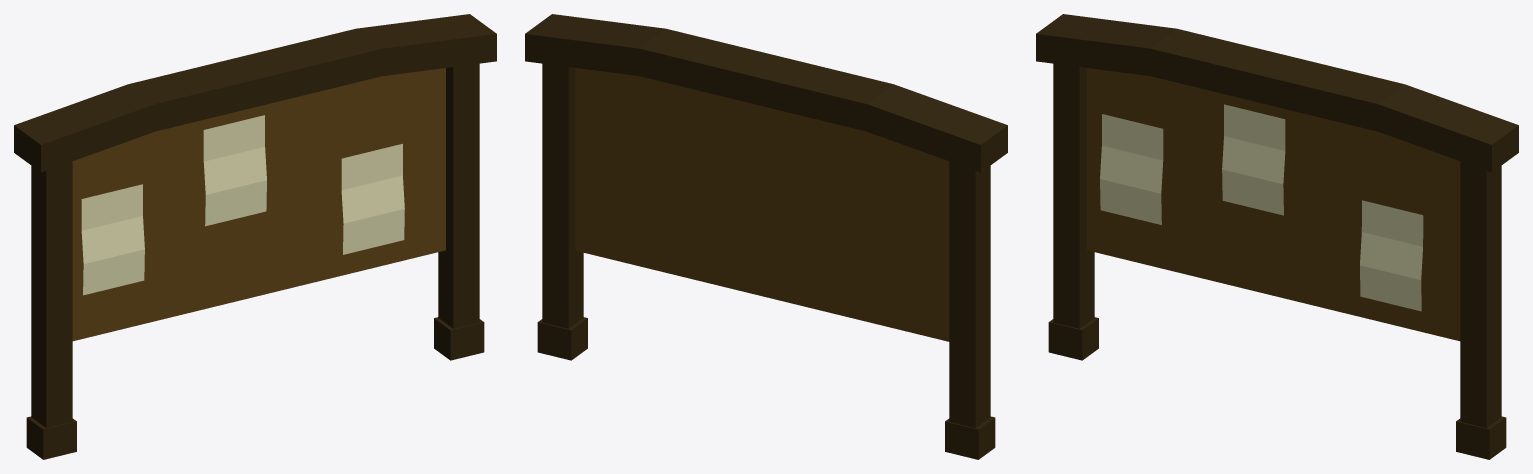
File: QuestSignpost.fbx
3 renders of one model, left to right at view 1: azimuth 30°, elevation 25°; view 2: azimuth 150°, elevation 25°; view 3: azimuth 330°, elevation 25°, orthographic.
Parts seen in each view (by area): view 1: QuestSignpost; view 2: QuestSignpost; view 3: QuestSignpost.
Part boxes in pixels (x1,y1,x2,y2): QuestSignpost: (14,14,496,459); QuestSignpost: (525,14,1007,459); QuestSignpost: (1036,14,1518,459).
Size of the model in its own units: 1456 by 1018 by 150.
